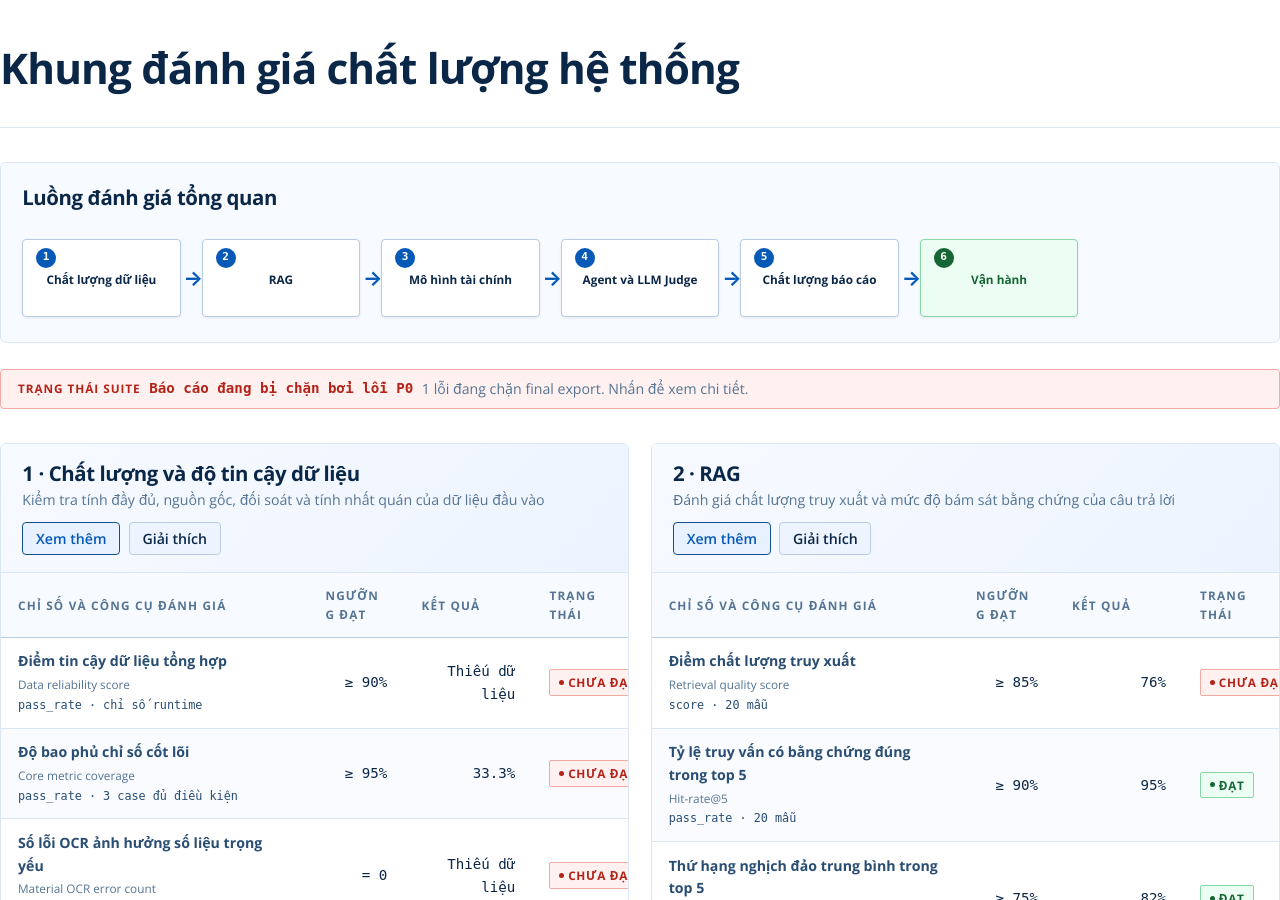
Test: EvalDashboardPage › opens calculation evidence when a metric row is clicked
The image size is (1280, 900).
Expected: the text "Báo cáo đang bị chặn bởi lỗi P0" is shown, [149, 378, 413, 399]
Click the text "Core metric coverage": (76, 775) [18, 767, 135, 783]
(page scrolled)
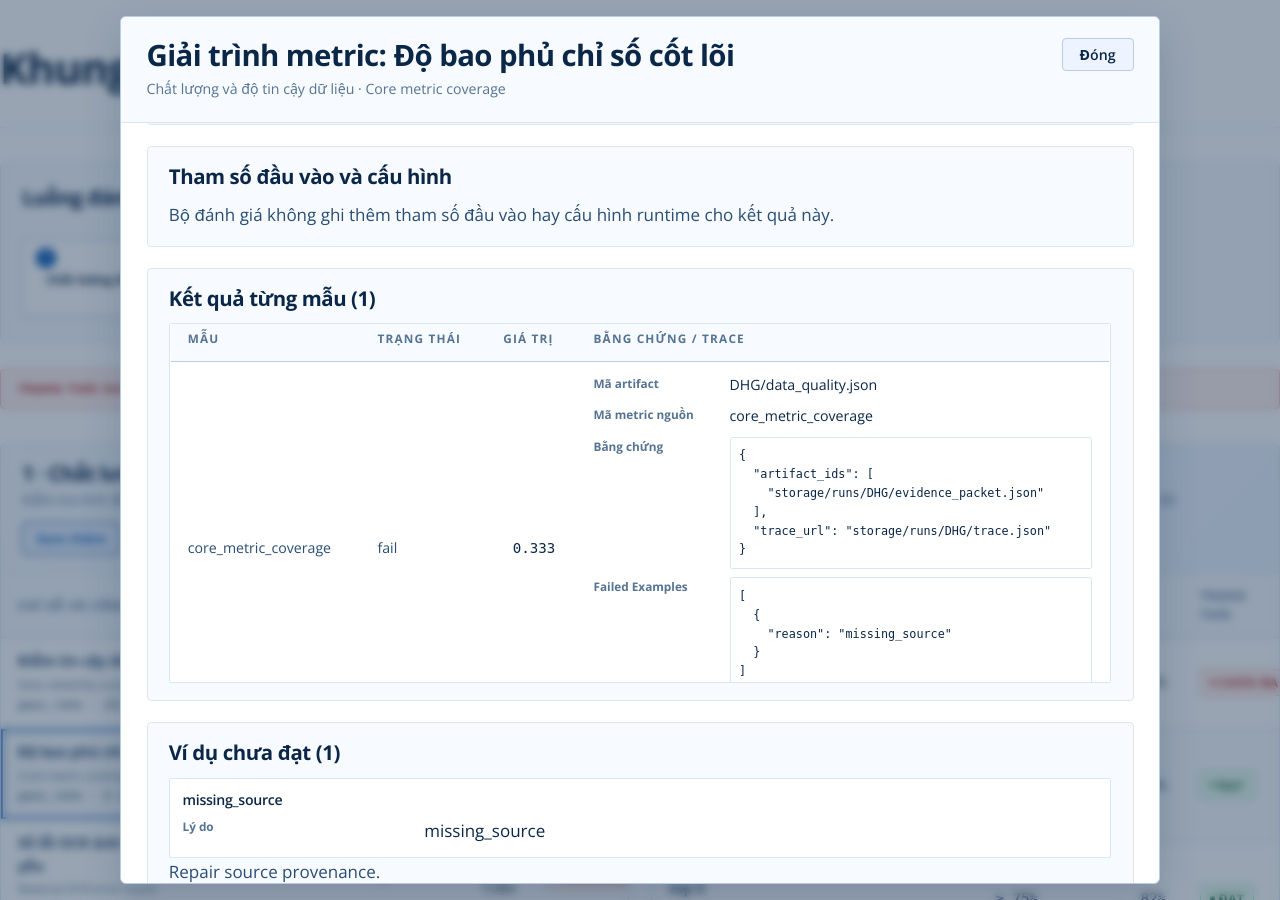
Expected: the dialog is shown
Expected: the heading "Kết quả từng mẫu (1)" is shown, [169, 284, 375, 312]
Expected: the text "core_metric_coverage" is shown, [188, 538, 331, 557]
